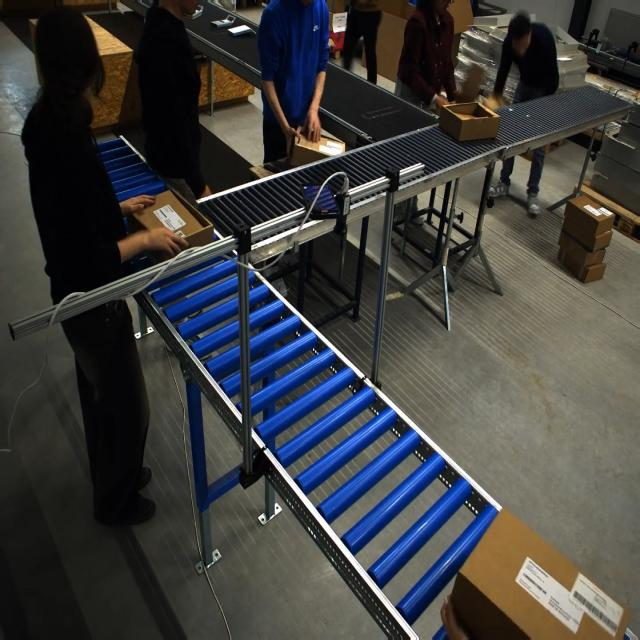box: (446, 509, 635, 638), (129, 188, 215, 252), (438, 101, 501, 143), (292, 127, 340, 166)
product: (210, 14, 236, 28), (227, 24, 254, 37), (182, 5, 204, 19)
